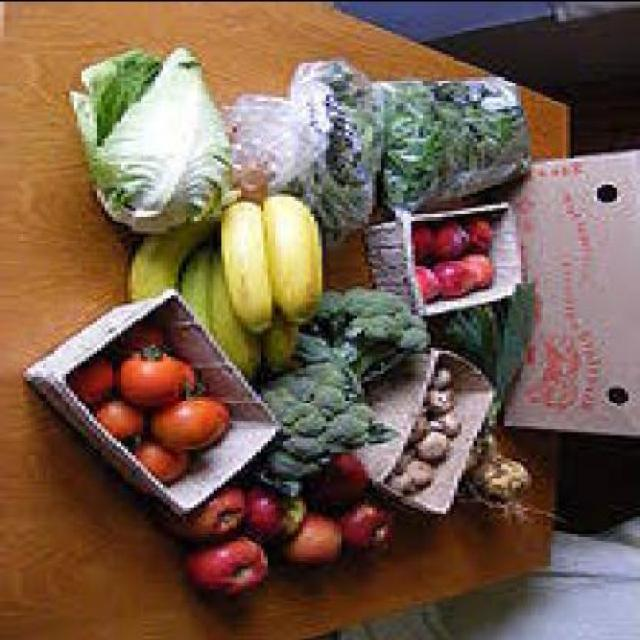BIODEGRADABLE: (70, 46, 248, 235), (264, 358, 404, 498), (442, 286, 547, 436), (400, 90, 523, 201), (307, 288, 435, 384), (462, 437, 566, 526), (268, 198, 326, 328), (128, 221, 221, 302), (225, 203, 280, 334), (218, 238, 264, 378), (337, 67, 388, 187), (154, 384, 240, 454), (120, 349, 202, 408), (190, 541, 272, 596), (160, 492, 248, 540), (272, 518, 348, 570), (244, 485, 310, 544), (314, 454, 372, 509), (345, 503, 400, 559), (190, 241, 221, 337), (135, 436, 194, 486), (100, 401, 155, 445), (268, 317, 302, 375), (78, 361, 120, 407), (116, 326, 172, 360), (434, 224, 477, 262), (438, 266, 482, 300), (469, 218, 497, 256), (473, 254, 501, 291), (423, 433, 454, 462), (411, 462, 438, 492), (423, 268, 446, 302), (416, 410, 438, 442), (419, 228, 438, 262), (434, 416, 466, 436), (434, 390, 458, 416), (438, 370, 462, 390), (396, 474, 415, 494)
CARDBOARD: (512, 157, 638, 440), (39, 384, 190, 518), (175, 287, 279, 418), (35, 294, 182, 384), (175, 419, 283, 512), (368, 352, 438, 486), (431, 384, 497, 514), (442, 341, 493, 390)
